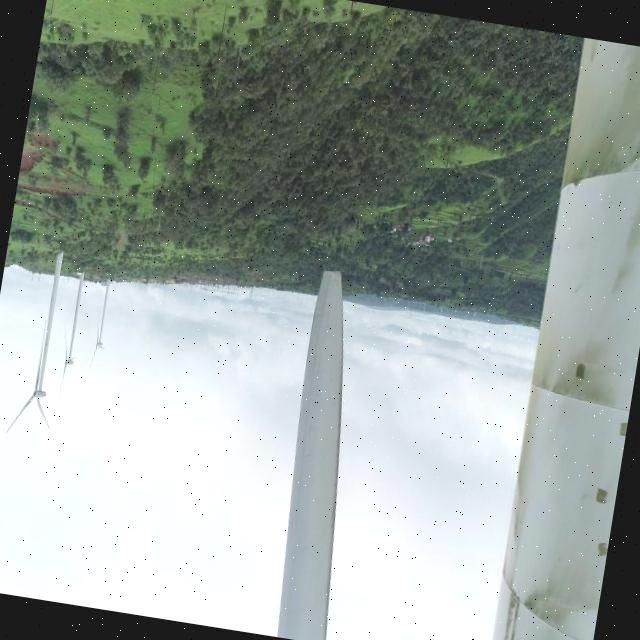Dirt: (491, 37, 640, 640)
